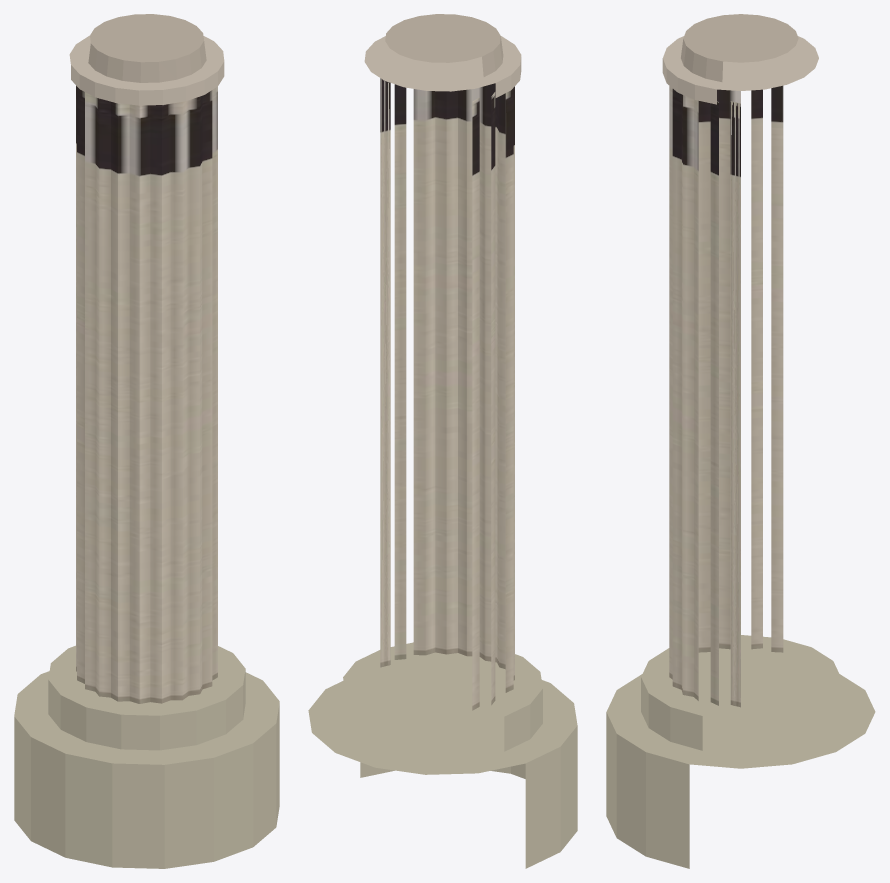
File: skyline-mg.glb
3 views of the same model, side by side, from view 1: azimuth 30°, elevation 25°; view 2: azimuth 150°, elevation 25°; view 3: azimuth 270°, elevation 25° (orthographic).
Parts seen in each view (by area): view 1: sky_mg_coit; view 2: sky_mg_coit; view 3: sky_mg_coit.
Part boxes in pixels (x1,y1,x2,y2): sky_mg_coit: [14, 14, 279, 868]; sky_mg_coit: [308, 14, 577, 868]; sky_mg_coit: [606, 14, 875, 868].
Size of what is drawn, in the model's own units: 0.315 by 1 by 0.315.
1 material, 1 textured.
